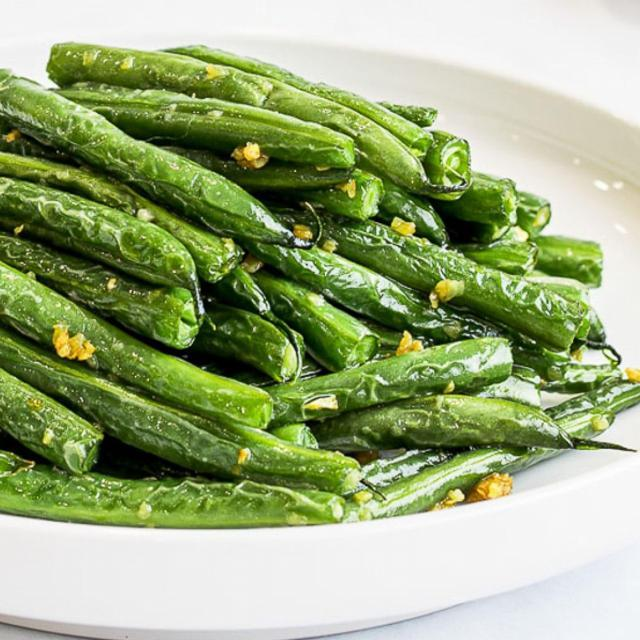Beans: (0, 34, 639, 544)
